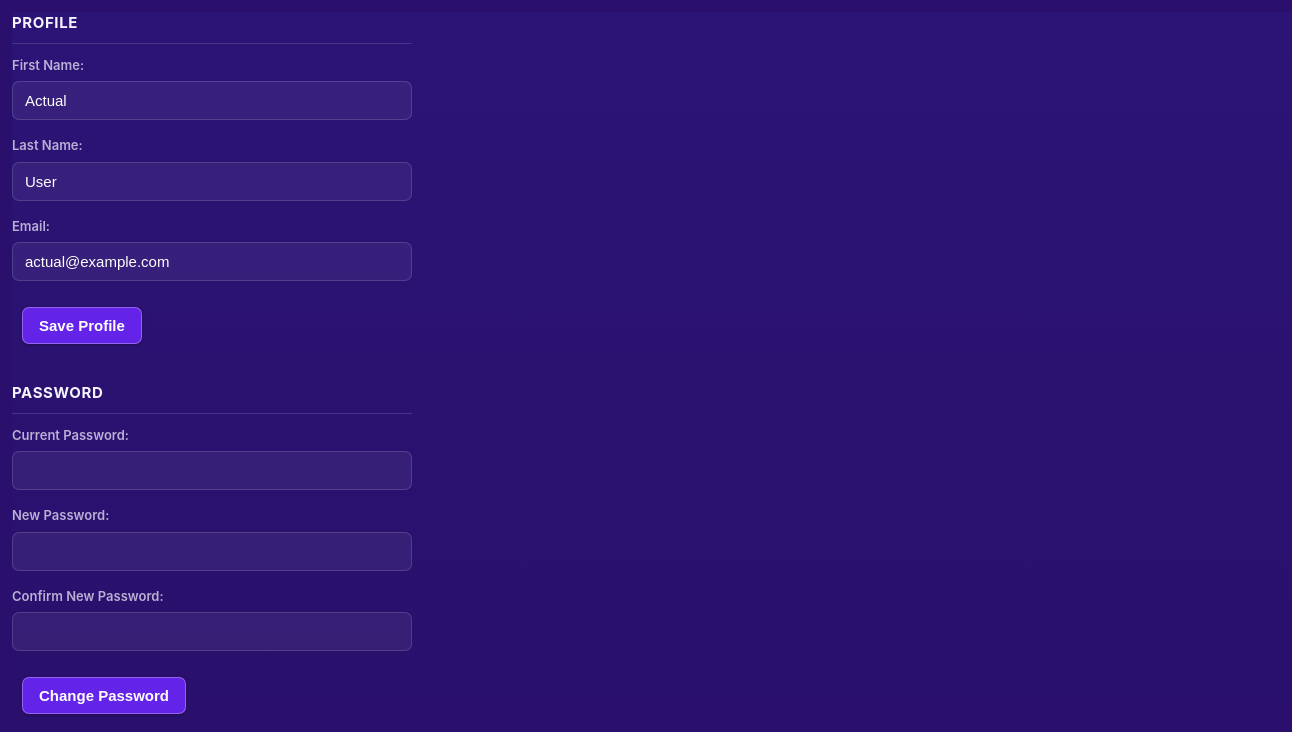
Scenario: SettingsPage › submits a matching password change and clears the form on success
The image size is (1292, 732).
Expected: the field showing "actual@example.com" is shown, [12,242,412,281]
Type "oldpassword1" into the password field labelled "Current Password:" at (212, 470), box [12,451,412,490]
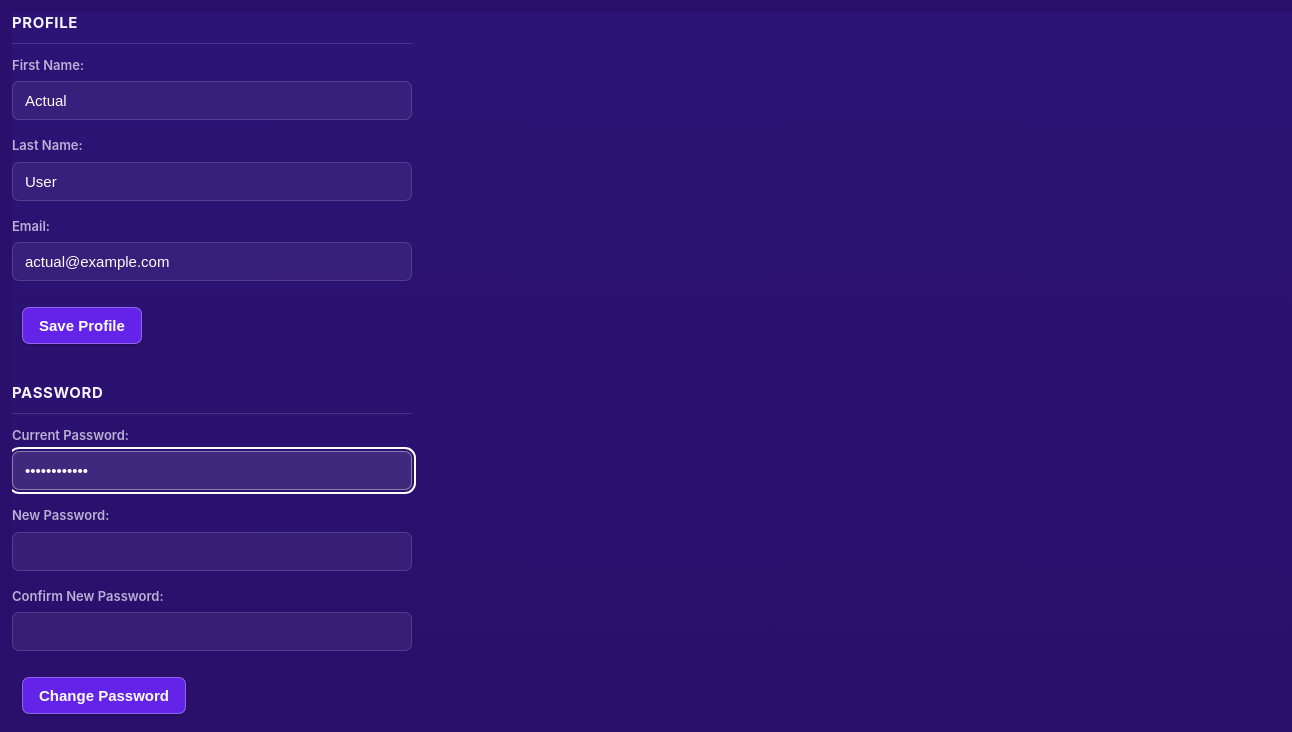
Type "newpassword1" into the password field labelled "New Password:" at (212, 551), box [12,532,412,570]
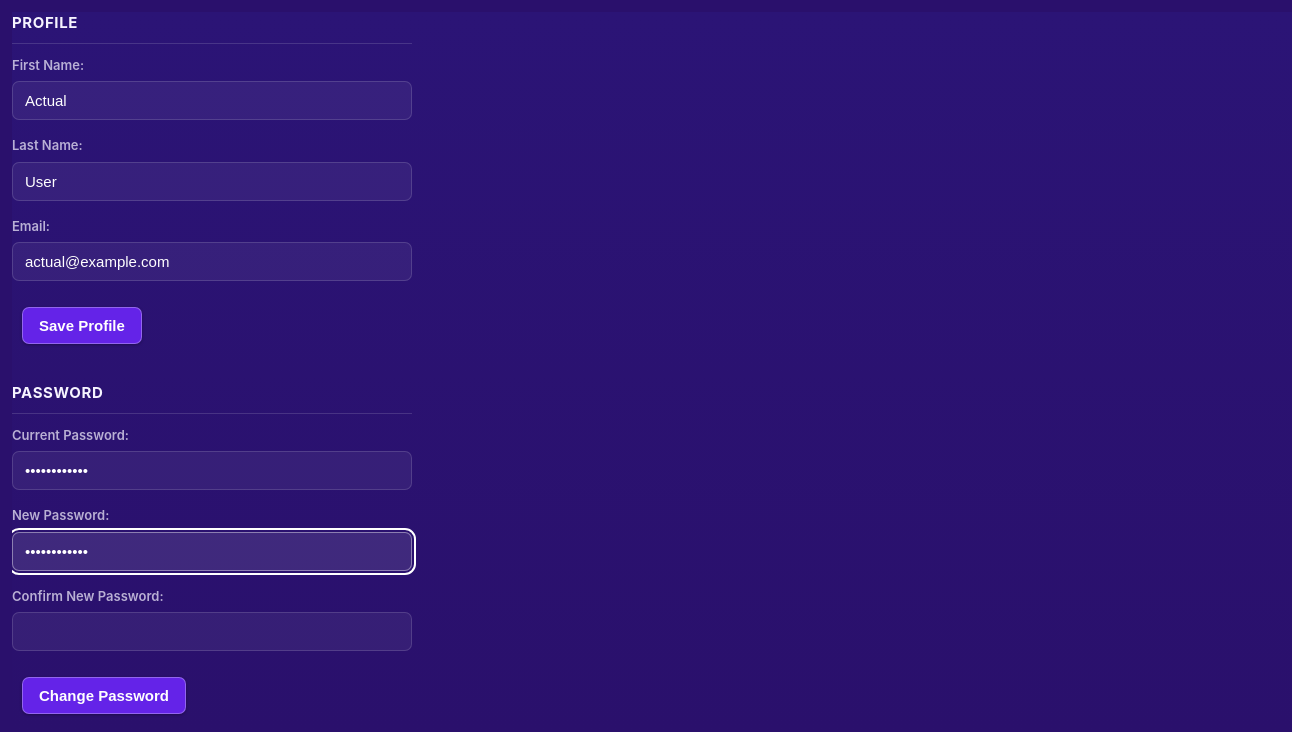
Type "newpassword1" into the password field labelled "Confirm New Password:" at (212, 632), box [12,612,412,651]
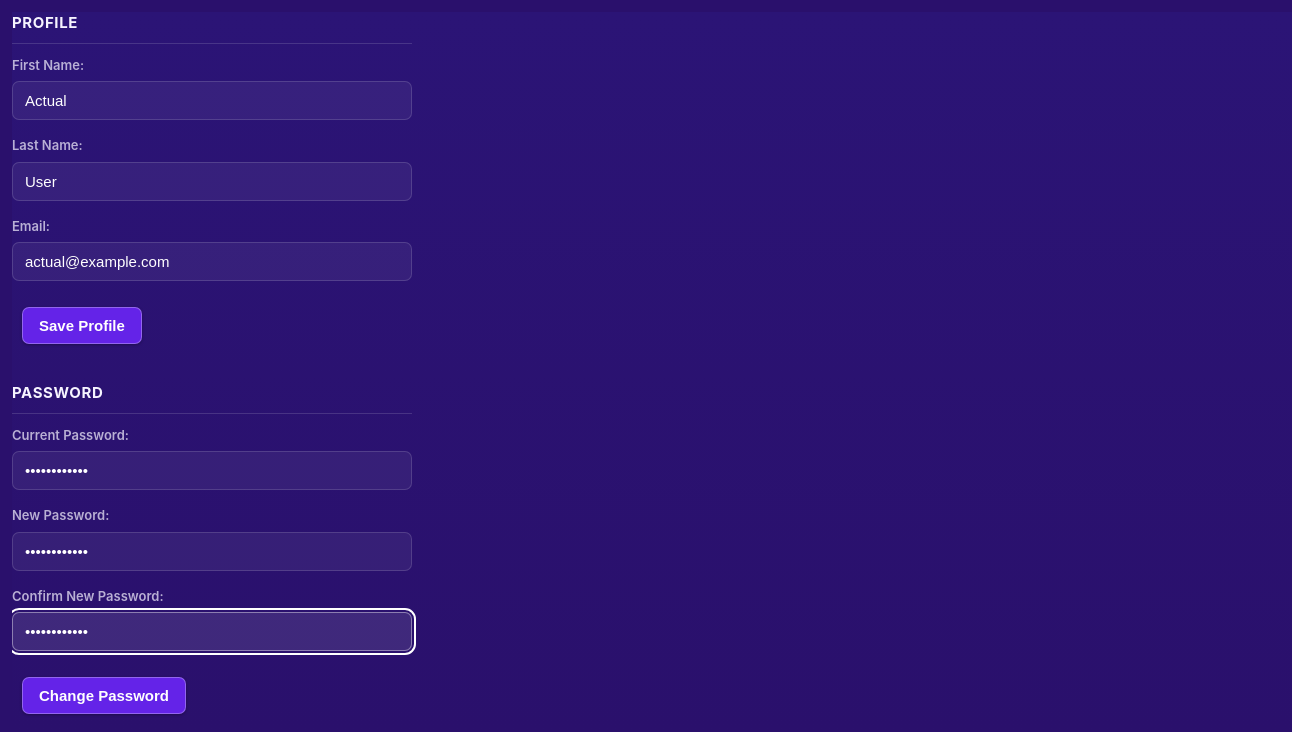
Click the button "Change Password" at (104, 696), box [22,677,186,714]
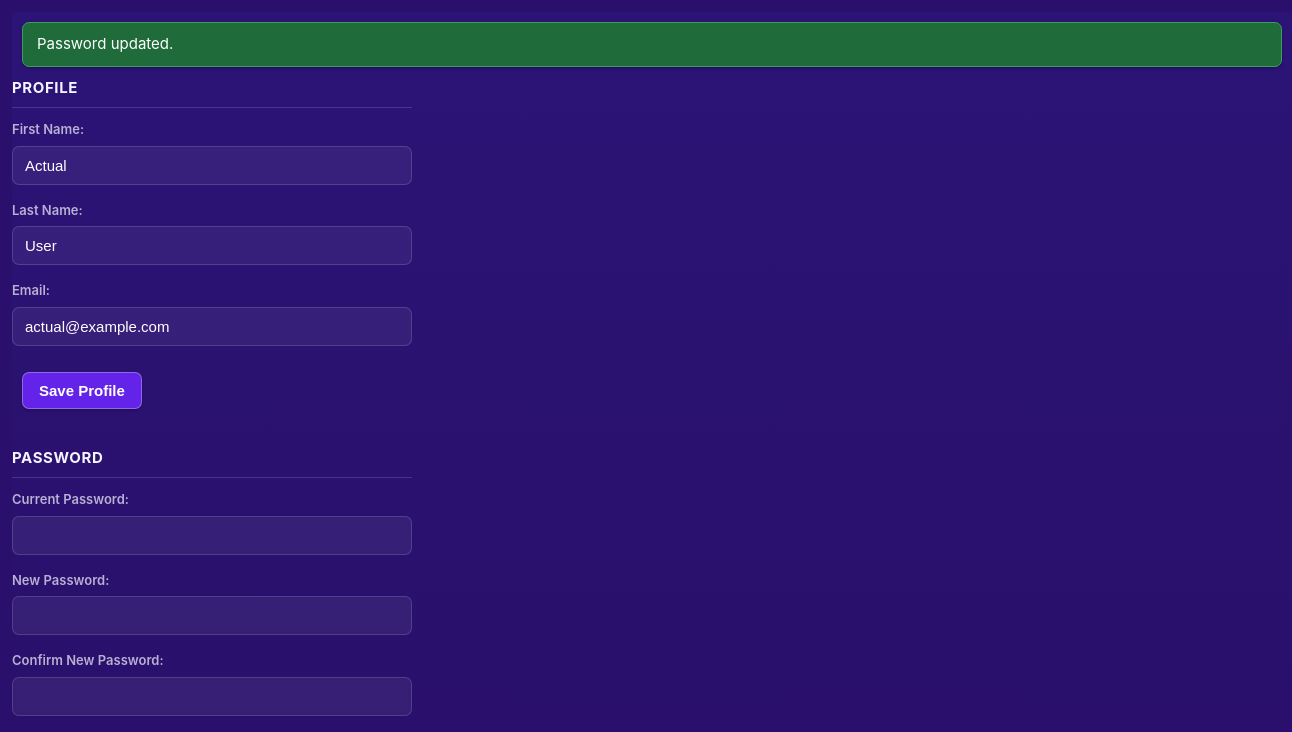
Now the text "Password updated." is shown, box [22,22,1282,66]
Now the password field labelled "Current Password:" is empty, box [12,516,412,554]
Now the password field labelled "New Password:" is empty, box [12,596,412,635]
